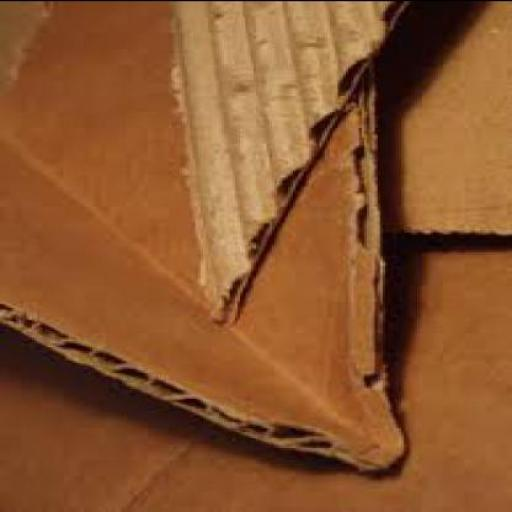cardboard: (0, 1, 511, 512), (0, 1, 407, 466), (169, 1, 412, 320), (372, 1, 510, 230)
